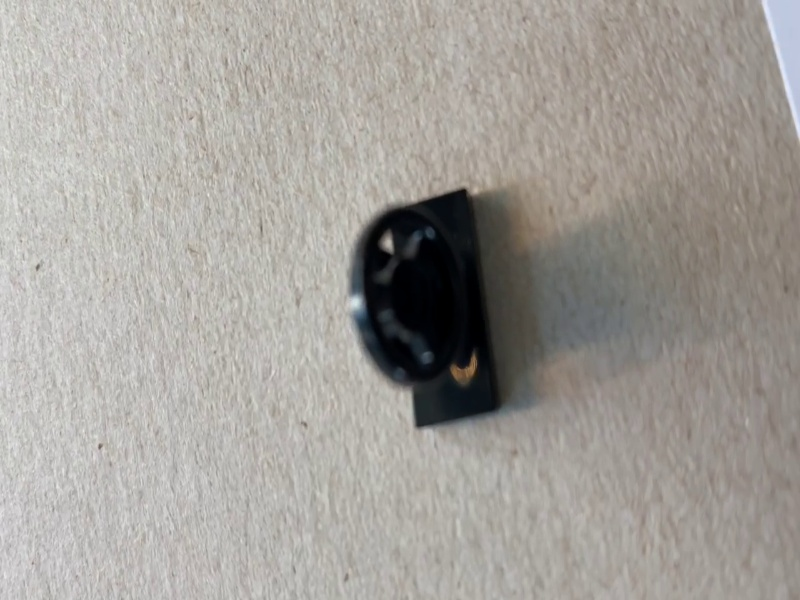steering wheel: (345, 188, 503, 430)
